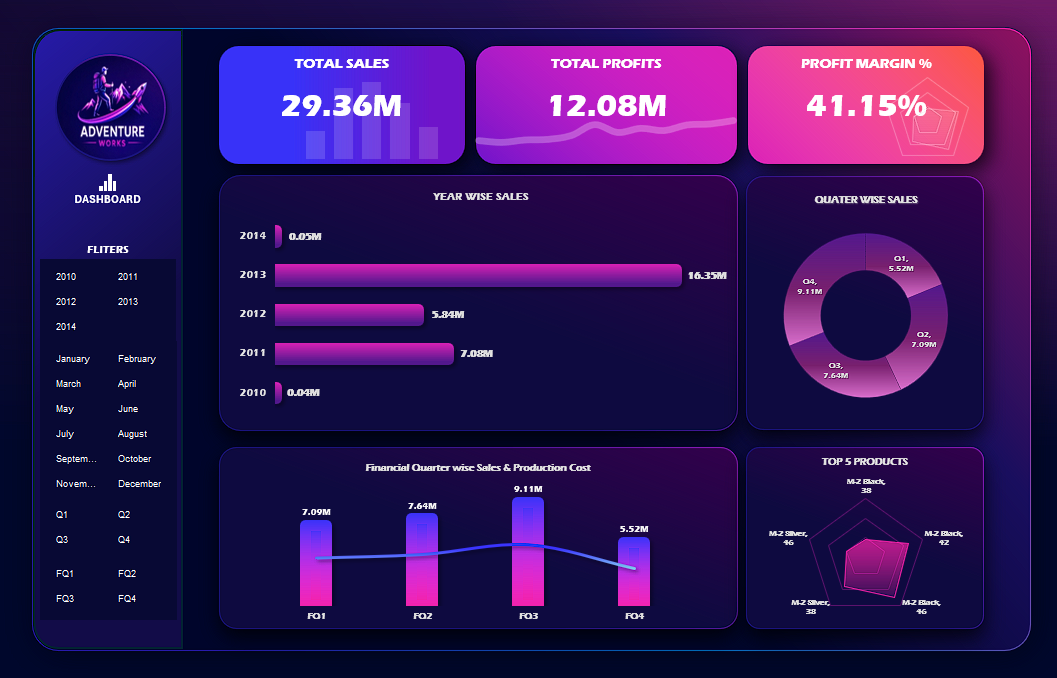

Layout of this report page (visuals, bound fields, positions):
{"tool":"powerbi","page":{"name":"Page 1","canvas":[1280,720],"ordinal":5},"visuals":[{"type":"shape","box":[146.7,468.3,240.9,19.6],"z":0},{"type":"shape","box":[612,214.7,180,23.6],"z":1000},{"type":"shape","box":[110.6,218.2,195.1,23],"z":2000},{"type":"shape","box":[803.4,469.6,179.8,23.2],"z":3000},{"type":"textbox","title":"Adventure Works","box":[199.4,16.4,879.8,75.7],"z":4000},{"type":"barChart","title":"Year-wise Sales","fields":{"Category":["Financial_sales.Year"],"Y":["Sum(Financial_sales.SalesAmount)"]},"box":[407.8,209.2,586.9,245.8],"z":5000},{"type":"lineChart","title":"Month-wise Sales","fields":{"Category":["Financial_sales.Month_Full_Name"],"Y":["Sum(Financial_sales.SalesAmount)"]},"box":[528.3,462.2,733.7,238.5],"z":6000},{"type":"pieChart","title":"Quarter-wise Sales","fields":{"Category":["Financial_sales.Quarter"],"Y":["Sum(Financial_sales.SalesAmount)"]},"box":[17.1,210.3,380.3,245.8],"z":7000},{"type":"lineStackedColumnComboChart","title":"Financial Quarter-wise Sales","fields":{"Category":["Financial_sales.Finacial_Quarter"],"Y2":["Sum(Financial_sales.SalesAmount)"],"Y":["Sum(Financial_sales.Production_Cost)"]},"box":[17.1,462.2,501.4,238.5],"z":8000},{"type":"shape","box":[232.3,121.1,119.8,41.6],"z":9000},{"type":"card","title":"Total Profits","fields":{"Values":["Sum(Financial_sales.Profit)"]},"box":[207.9,101.5,168.8,96.6],"z":10000},{"type":"shape","box":[926.9,122.3,118.6,39.1],"z":11000},{"type":"card","title":"Total Sales","fields":{"Values":["Sum(Financial_sales.Sales_Amount)"]},"box":[902.5,101.5,167.5,96.6],"z":12000},{"type":"shape","box":[583.2,122.4,118.7,39.1],"z":13000},{"type":"card","title":"Total Sales","fields":{"Values":["DimDate.Profit Margin %"]},"box":[556.7,102.2,167.9,97.2],"z":14000},{"type":"shape","box":[1099.8,213.5,74.5,24.8],"z":15000},{"type":"slicer","title":"Years","fields":{"Values":["Financial_sales.Year"]},"box":[1005.2,210.5,256.2,244.4],"z":16000},{"type":"image","box":[207.5,19.3,95.3,72.4],"z":17000},{"type":"image","box":[974.8,19.3,95.3,72.4],"z":18000}]}

Visuals, with their boxes on the page's 1280x720 design canvas (x1, y1, x2, y2). These are canvas units, not pixel positions in the 1057x678 screenshot, which may show the page scaled, cropped or inside an application window:
shape: (x1=147, y1=468, x2=388, y2=488)
shape: (x1=612, y1=215, x2=792, y2=238)
shape: (x1=111, y1=218, x2=306, y2=241)
shape: (x1=803, y1=470, x2=983, y2=493)
"Adventure Works" textbox: (x1=199, y1=16, x2=1079, y2=92)
"Year-wise Sales" barChart: (x1=408, y1=209, x2=995, y2=455)
"Month-wise Sales" lineChart: (x1=528, y1=462, x2=1262, y2=701)
"Quarter-wise Sales" pieChart: (x1=17, y1=210, x2=397, y2=456)
"Financial Quarter-wise Sales" lineStackedColumnComboChart: (x1=17, y1=462, x2=518, y2=701)
shape: (x1=232, y1=121, x2=352, y2=163)
"Total Profits" card: (x1=208, y1=102, x2=377, y2=198)
shape: (x1=927, y1=122, x2=1046, y2=161)
"Total Sales" card: (x1=902, y1=102, x2=1070, y2=198)
shape: (x1=583, y1=122, x2=702, y2=162)
"Total Sales" card: (x1=557, y1=102, x2=725, y2=199)
shape: (x1=1100, y1=214, x2=1174, y2=238)
"Years" slicer: (x1=1005, y1=210, x2=1261, y2=455)
image: (x1=208, y1=19, x2=303, y2=92)
image: (x1=975, y1=19, x2=1070, y2=92)
